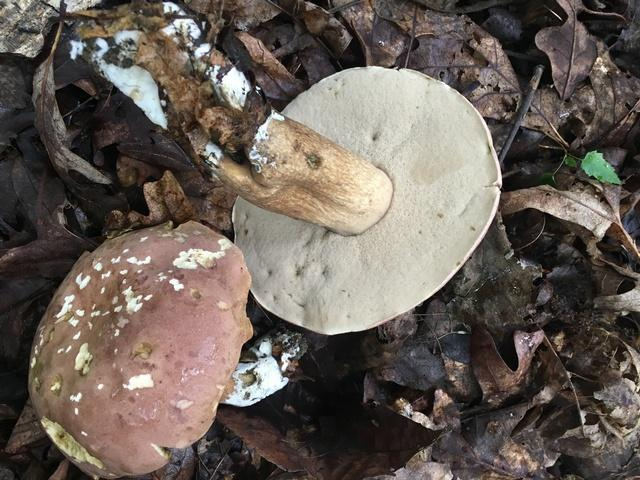poisonous_mushroom: (227, 63, 503, 335), (26, 218, 254, 478)
